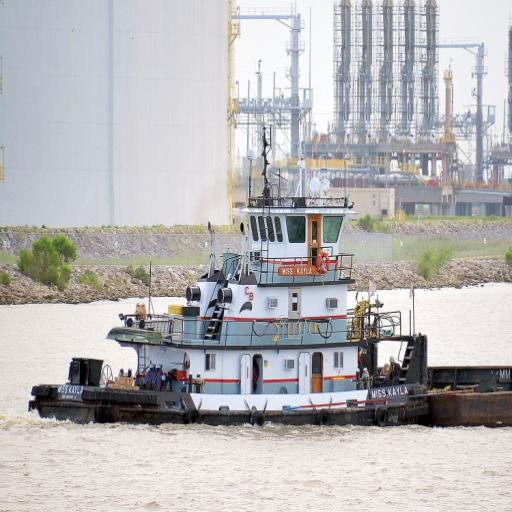tugboat: (28, 121, 431, 440)
